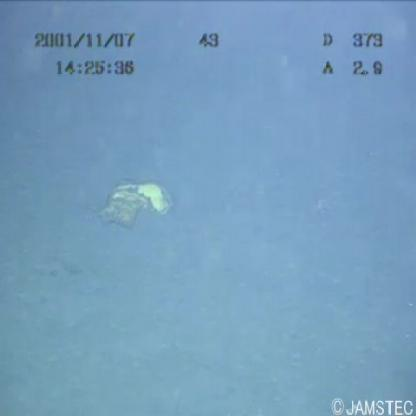Rác: (91, 174, 183, 233)
